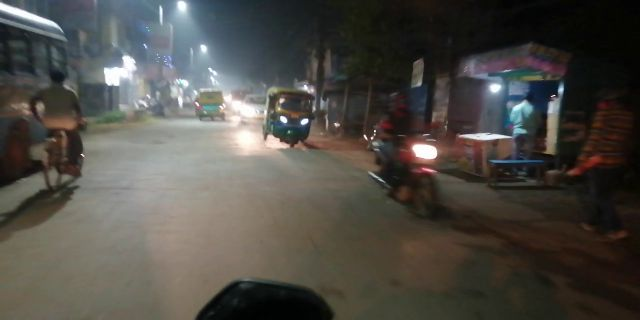Autorickshaw: (266, 84, 317, 144), (196, 87, 228, 121)
Motorbike: (360, 87, 445, 219)
